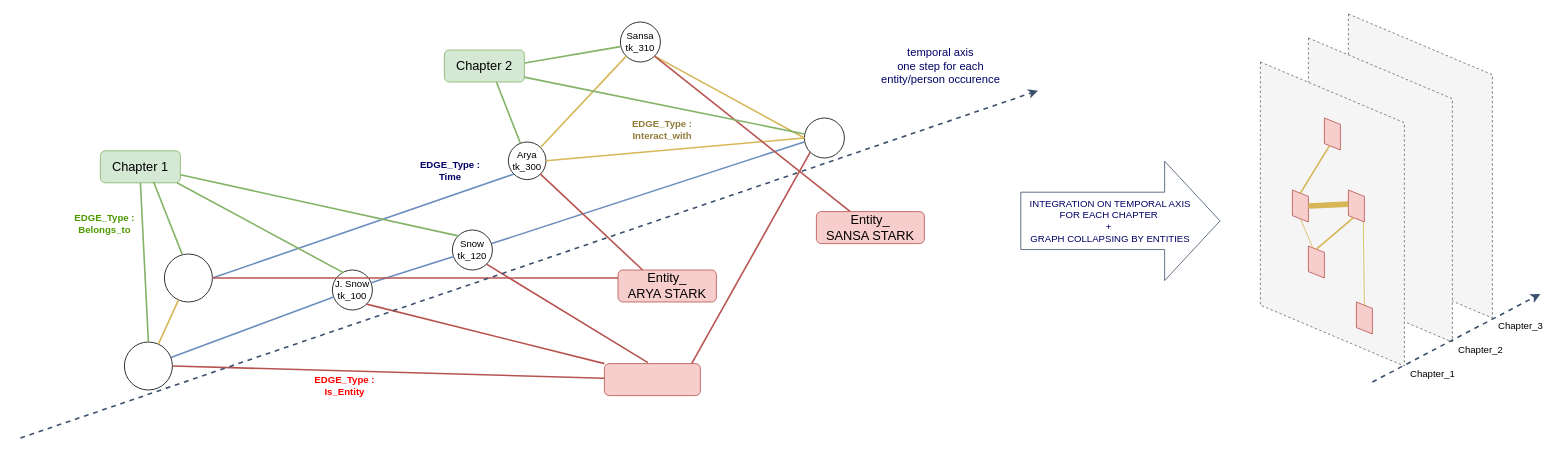
The diagram is 1562 pixels wide and 459 high, and some of its shapes have lost their labels. Each missing label, with the centre of its shape:
Arya tk_60: (188,277)
Entity_ JOHN SNOW: (652,379)
John tk_315: (824,137)
John tk_45: (148,365)
